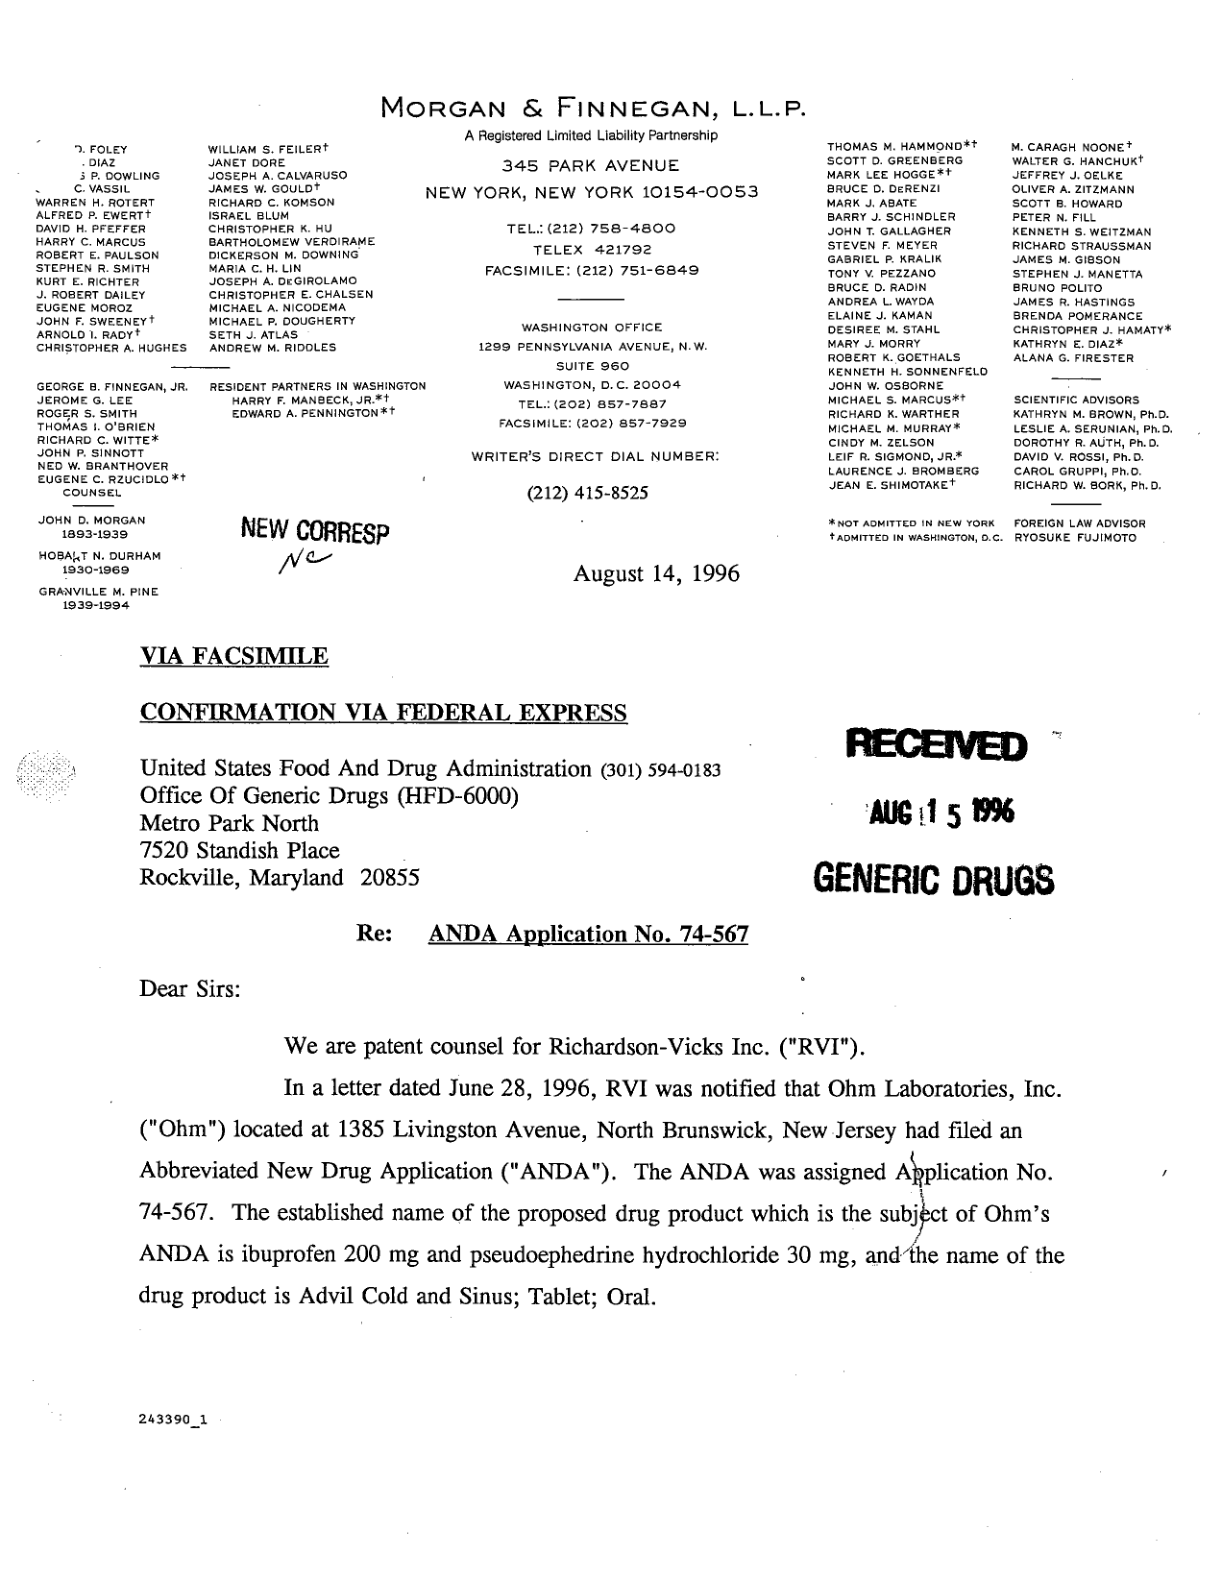nolines: (31, 142, 1177, 615)
